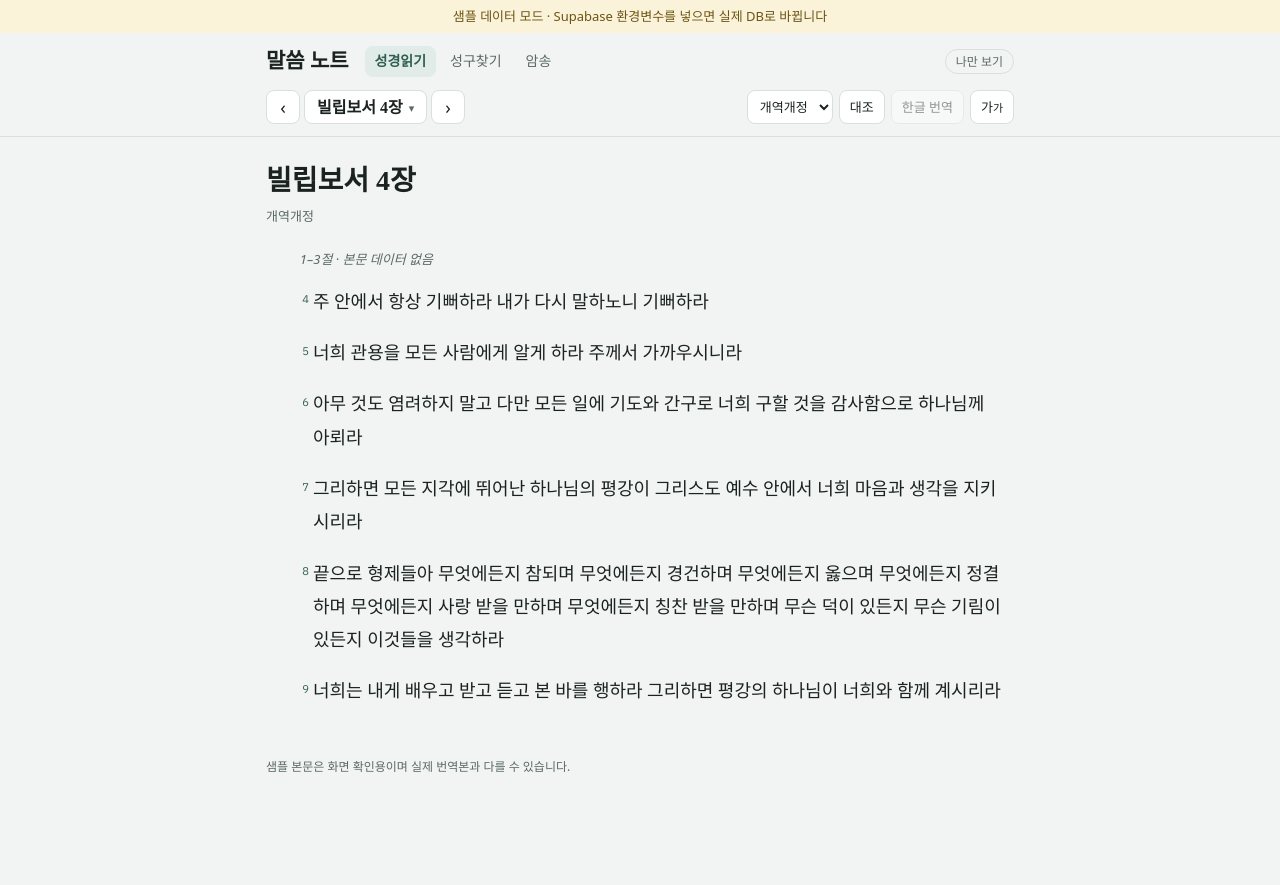
app (sample mode) › per-verse button opens the verse; an engine button translates it
Expected: the heading "빌립보서 4장" is shown, [266, 165, 416, 196]
Select "NIV" in the dropdown named "번역본" at (790, 107), box [747, 90, 833, 124]
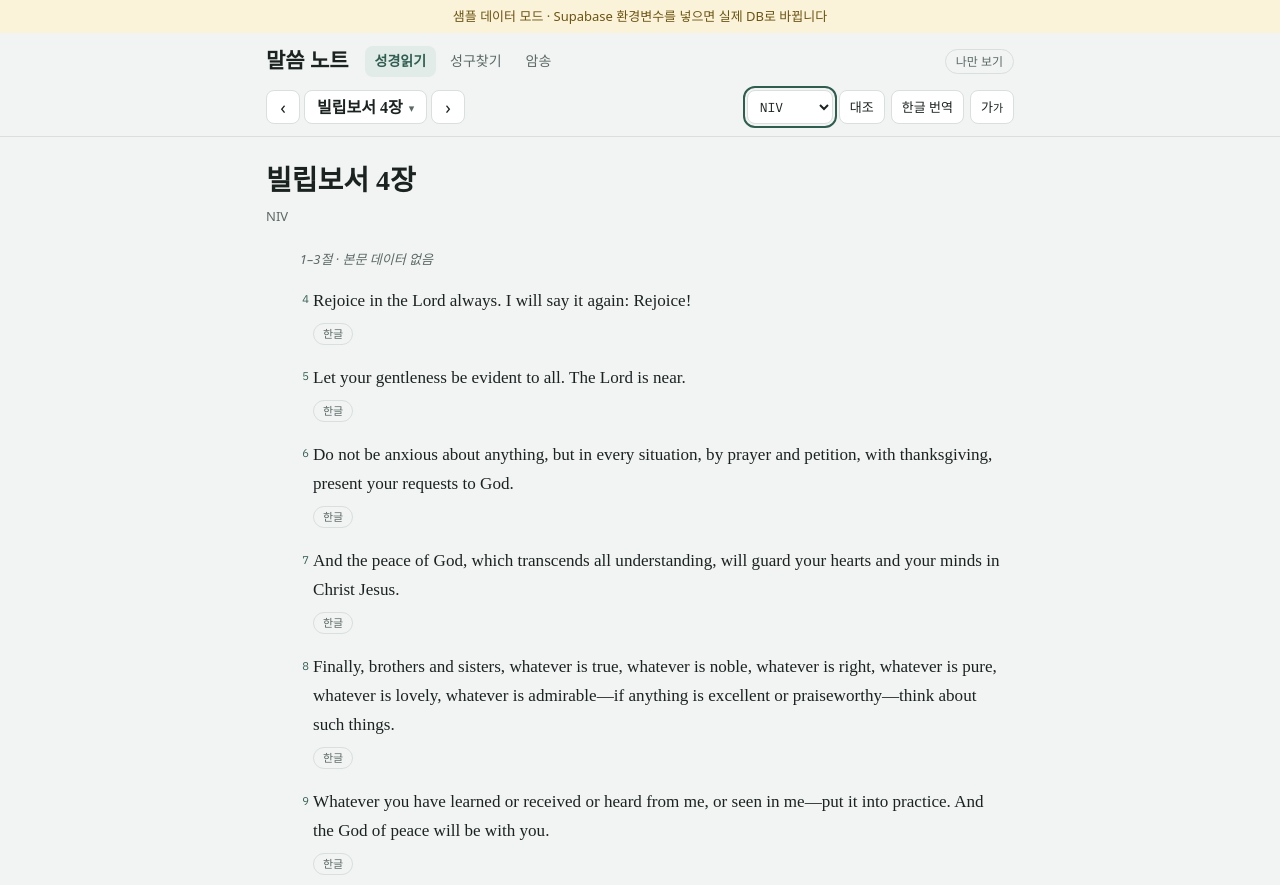
Click the button with aria-label "9절 NIV 한글 번역" at (333, 864), box [313, 853, 353, 875]
(page scrolled)
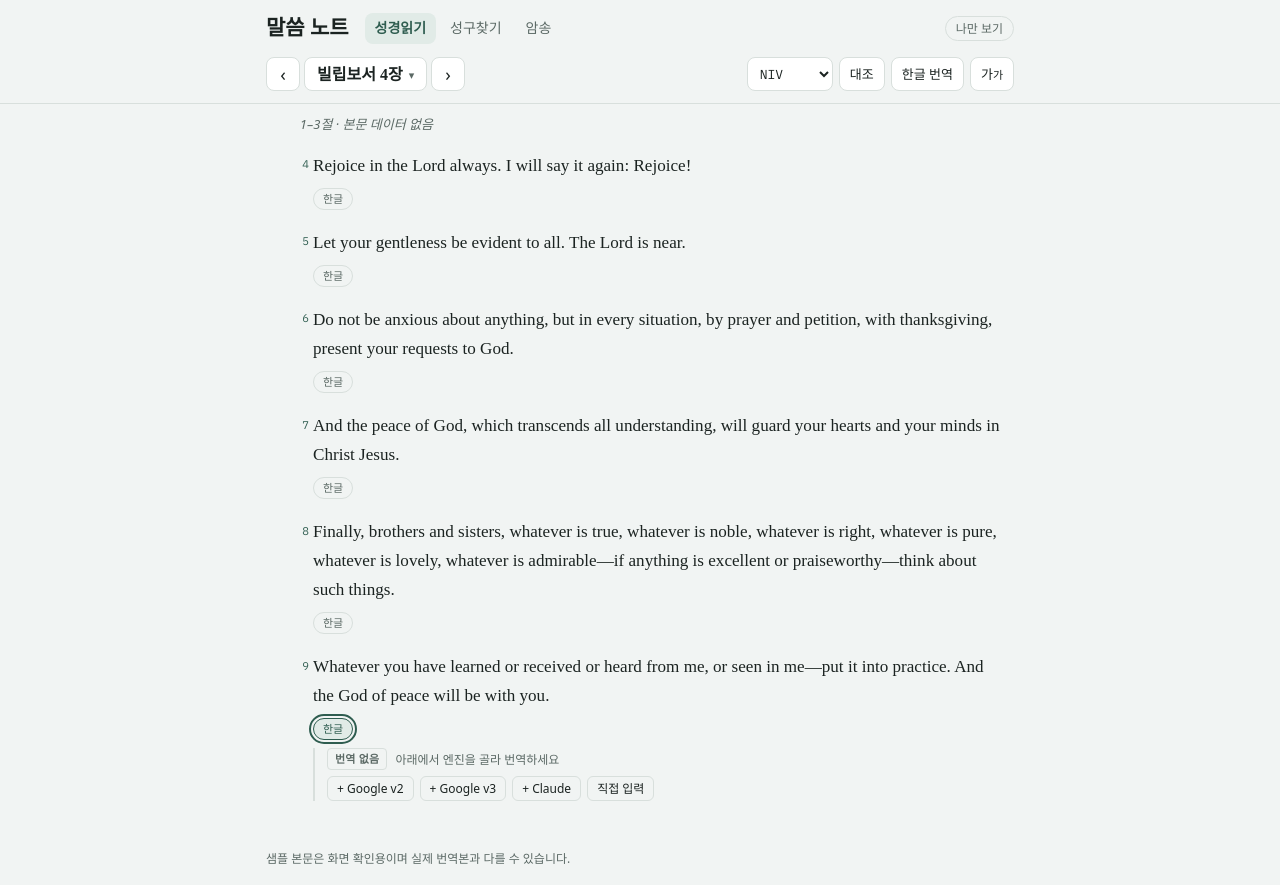
Expected: the text "번역 없음" is shown, [327, 748, 388, 770]
Click the button "+ Google v3" at (463, 788), box [420, 776, 506, 801]
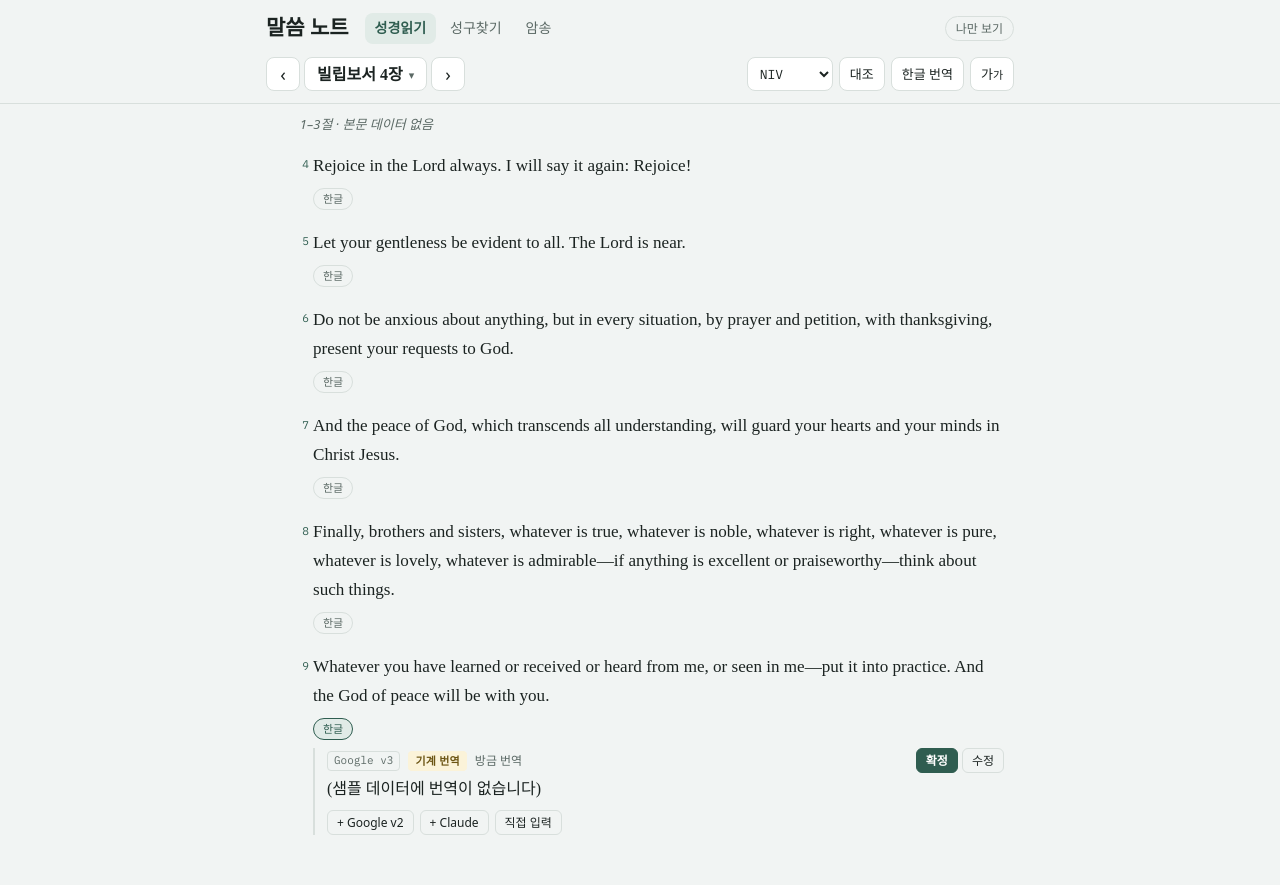
Expected: the text "(샘플 데이터에 번역이 없습니다)" is shown, [327, 780, 541, 798]
Click the button with aria-label "9절 NIV 한글 번역" at (333, 729), box [313, 718, 353, 740]
(page scrolled)
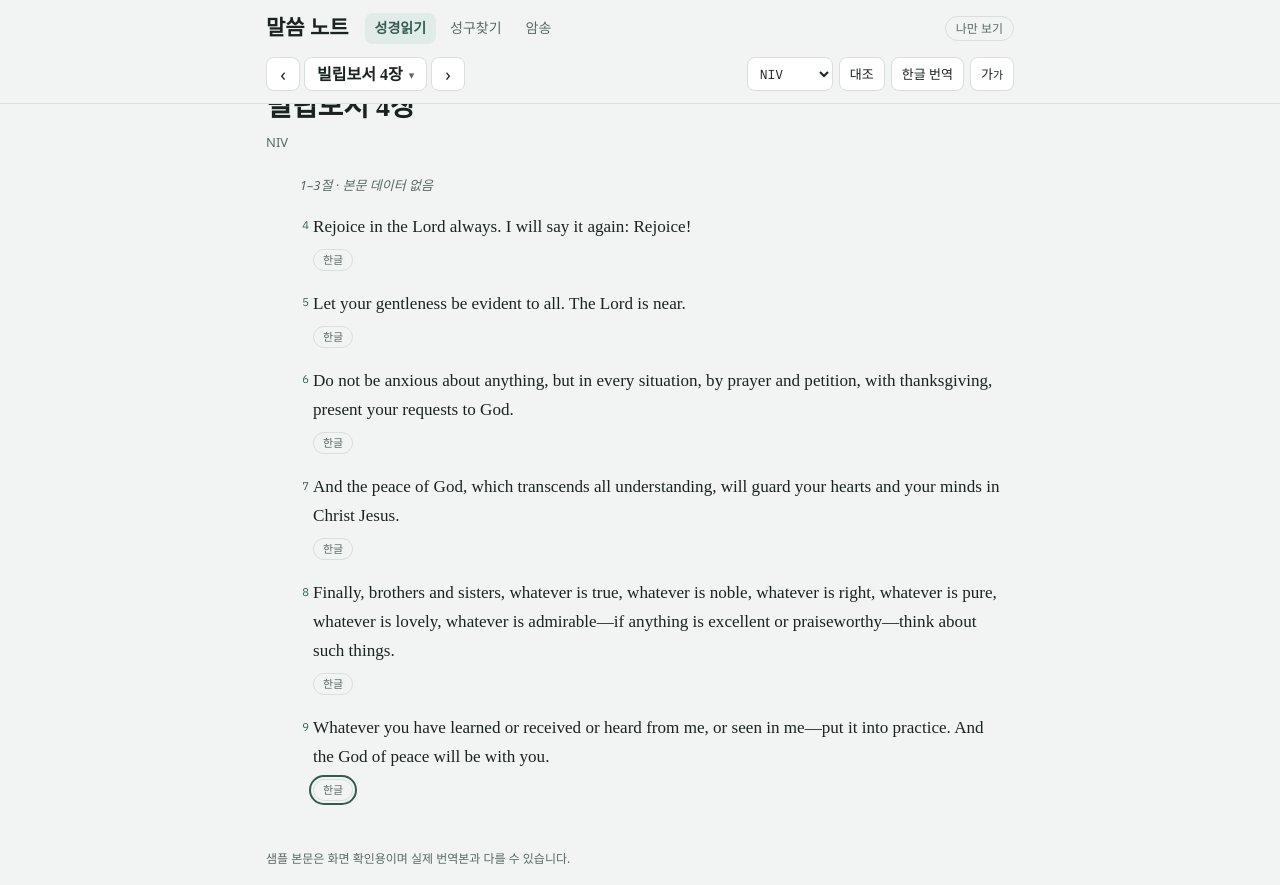
Expected: the text "샘플 데이터에 번역이 없습니다" is gone
